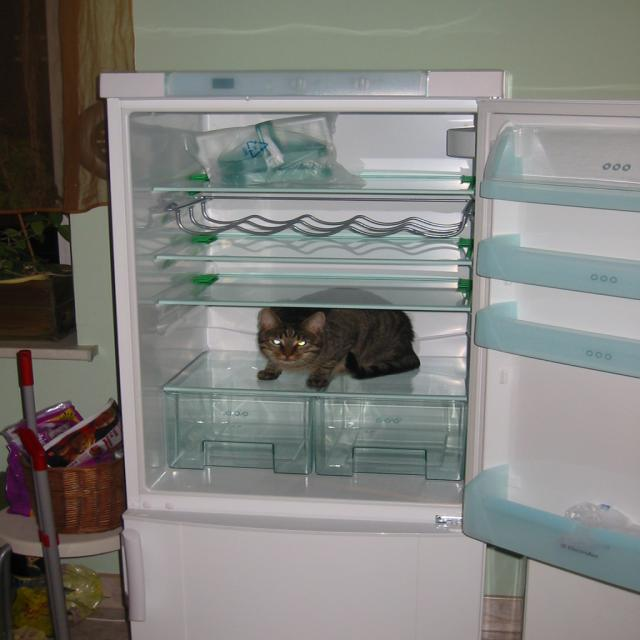Cat: (255, 288, 420, 388)
